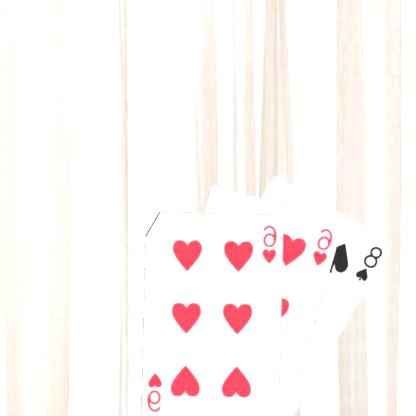6H: (312, 225, 336, 267), (147, 370, 165, 413), (262, 222, 280, 264)
8S: (355, 243, 386, 283)
